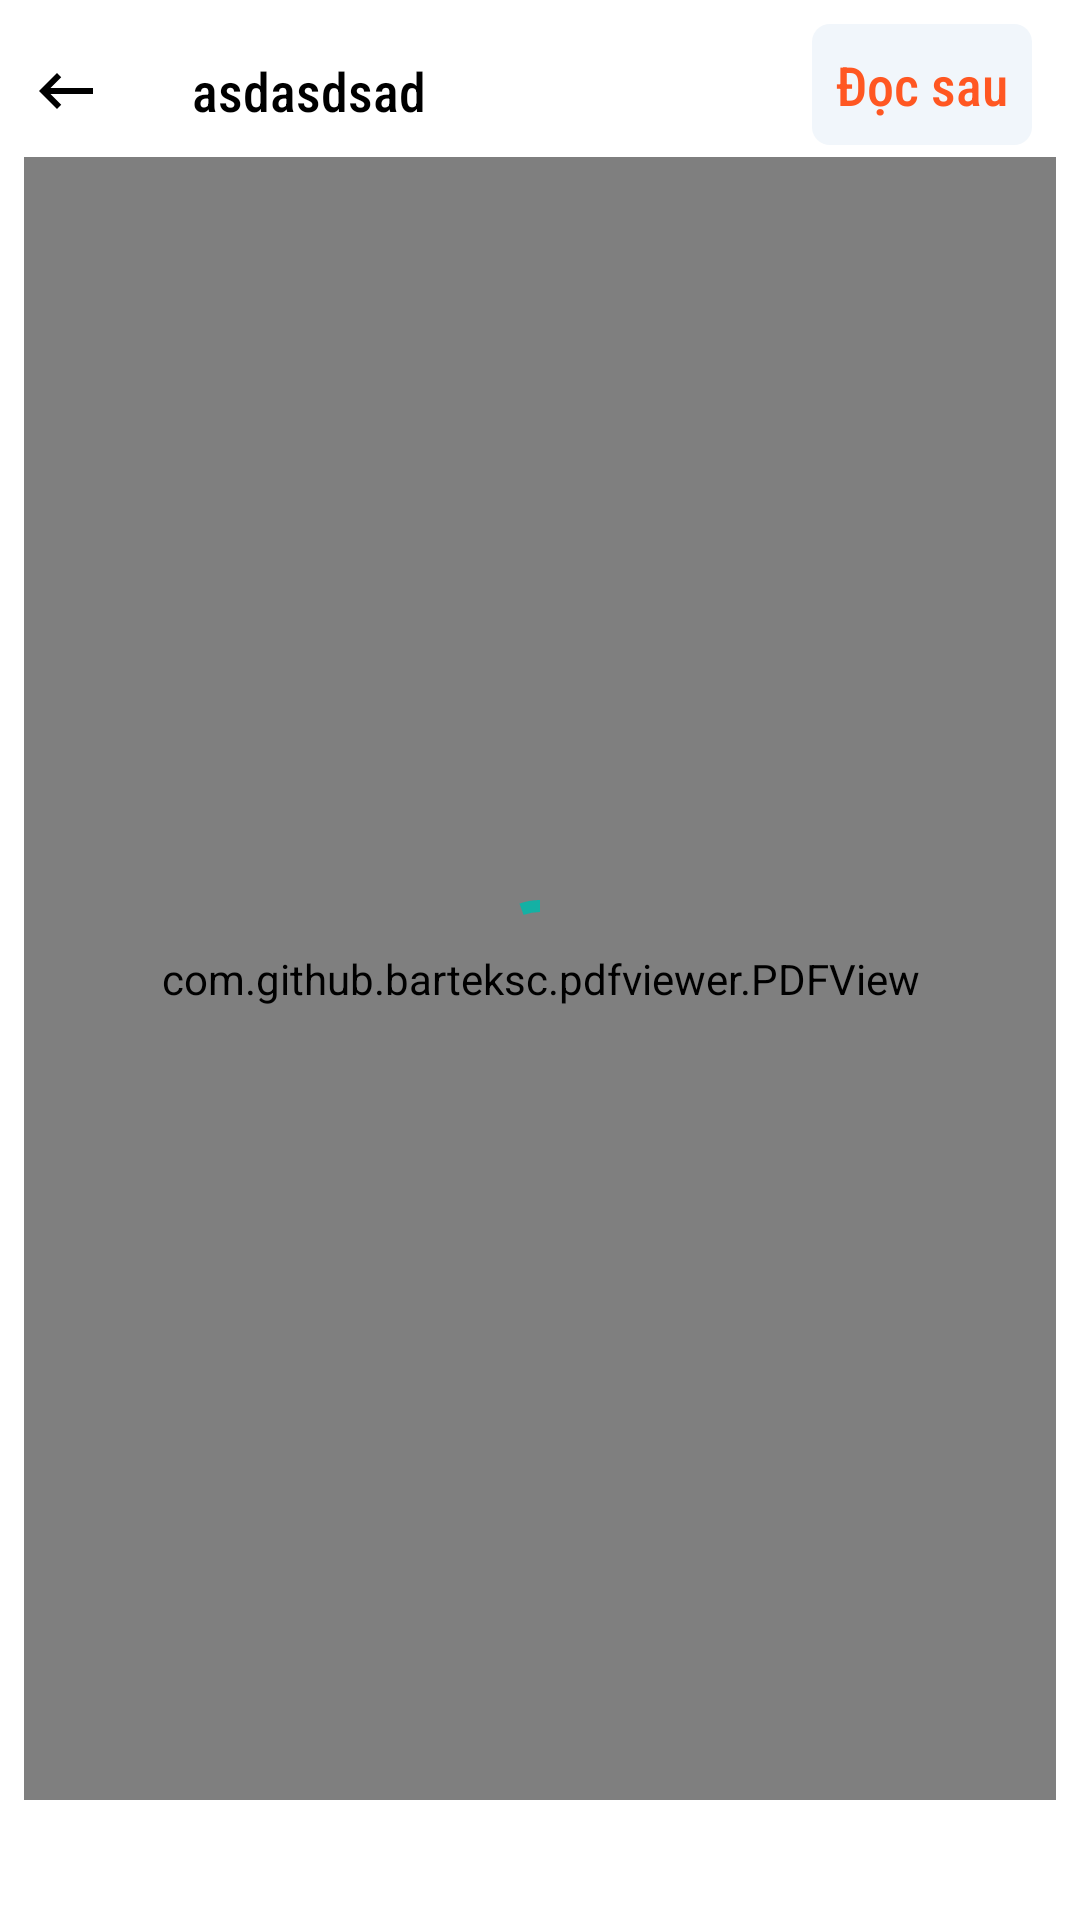

Icons on this 1080w x 1920h Android screen, each with the point to tap as point (x, y):
keyboard backspace: point (66, 91)
